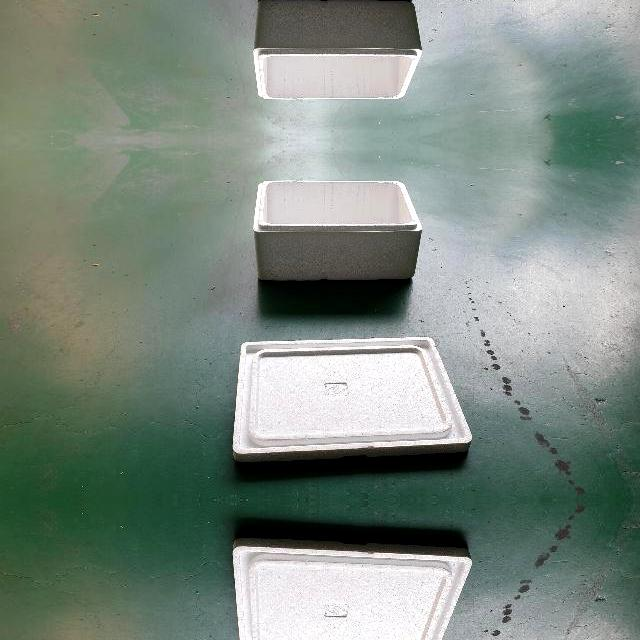Styrofoam: (231, 333, 473, 465), (232, 337, 473, 462), (231, 535, 473, 640), (232, 538, 473, 640), (253, 178, 423, 282), (253, 0, 423, 102), (253, 180, 422, 280), (253, 0, 422, 100)
